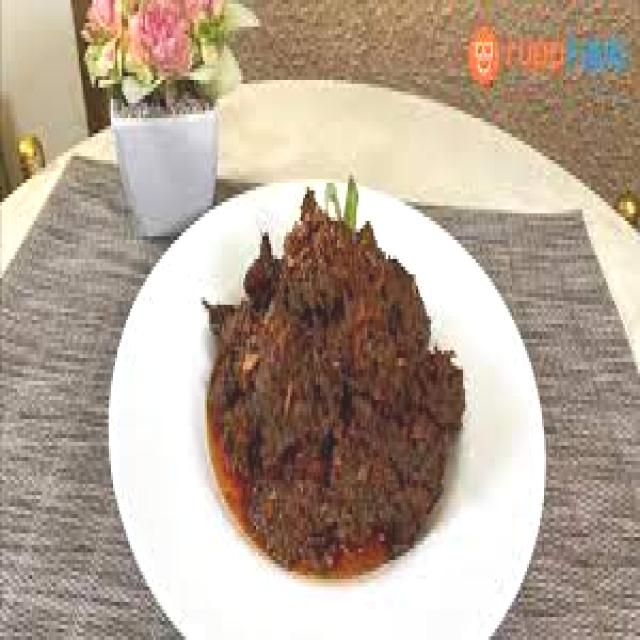rendang: (205, 198, 463, 568)
